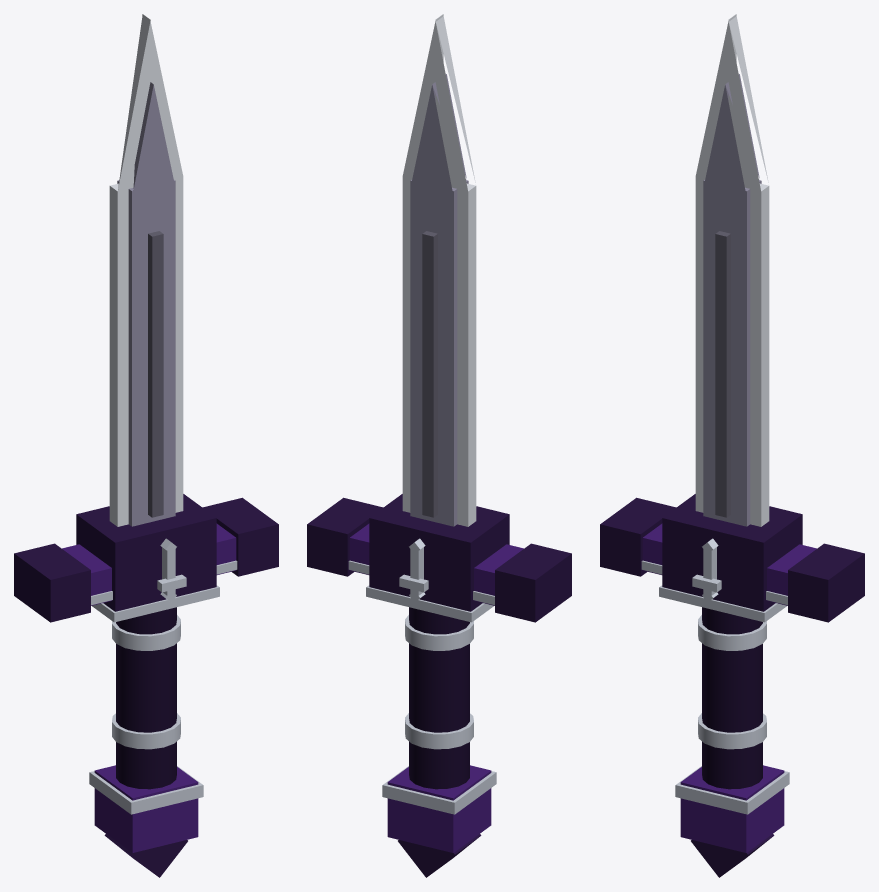
3 views of the same model, side by side, from view 1: azimuth 30°, elevation 25°; view 2: azimuth 150°, elevation 25°; view 3: azimuth 330°, elevation 25° (orthographic).
Visible parts, largest first — view 1: shadow-fang; view 2: shadow-fang; view 3: shadow-fang.
Boxes of the visible parts, x1,y1,x2,y2 form: shadow-fang: (14,14,278,877); shadow-fang: (307,14,571,877); shadow-fang: (600,14,864,877).
Bounding box in the file's own units: 0.1574 × 0.5606 × 0.0666.
